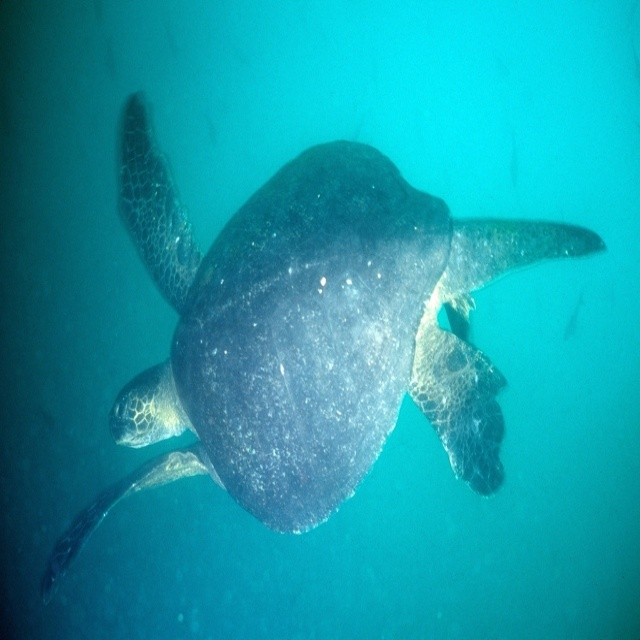Sea turtle: (43, 90, 606, 604)
